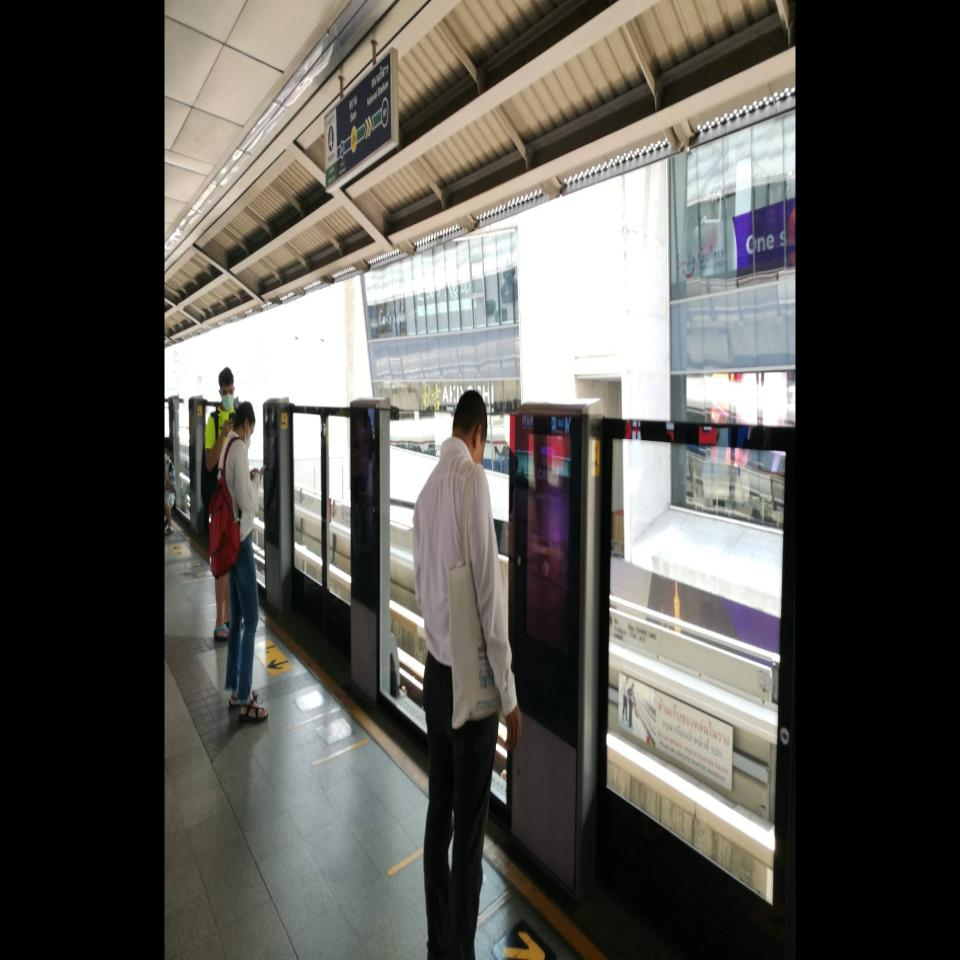signage: (340, 94, 388, 160)
